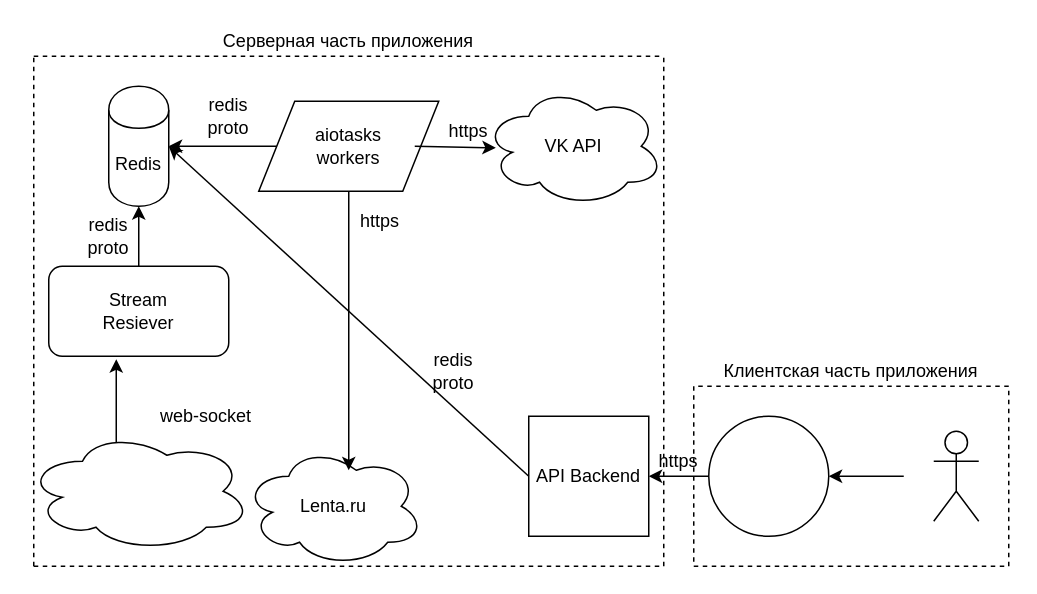
Image size: 1037x594. Some labels were removed from this diagram. Here are the shapes that lost their labels. From the top down, the centre of each, then its label:
At (x=138, y=490): "VK Streaming".
At (x=768, y=475): "Frontend".
At (x=955, y=475): "User".
